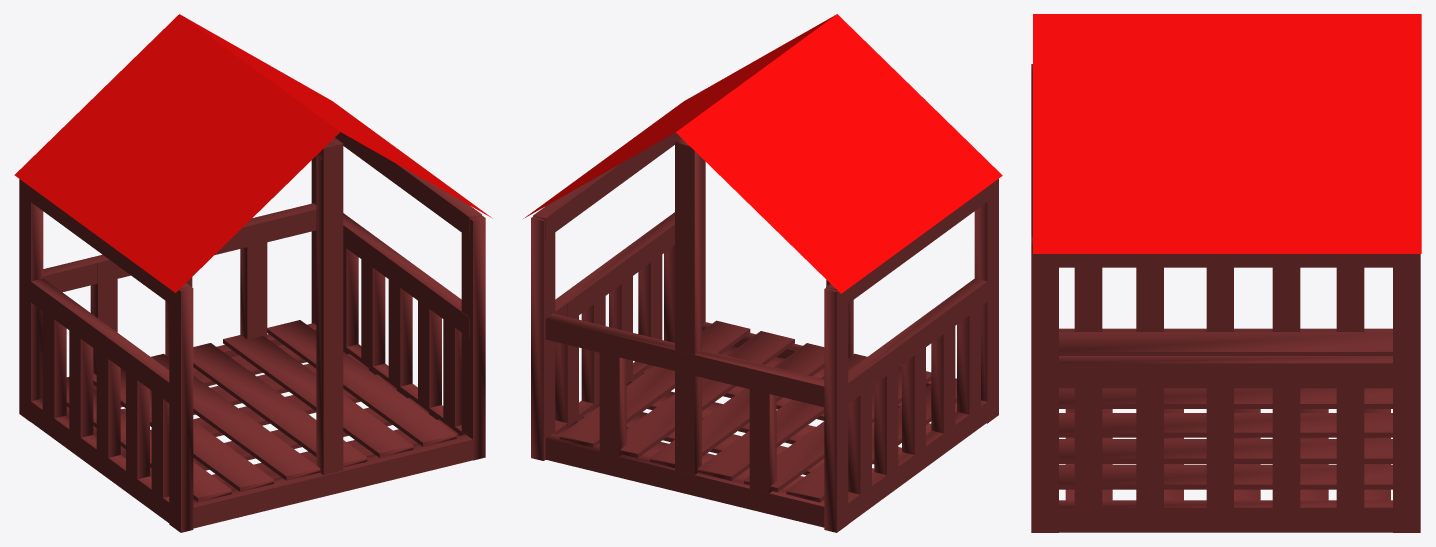
File: 6_house.fbx
3 renders of one model, left to right at view 1: azimuth 30°, elevation 25°; view 2: azimuth 150°, elevation 25°; view 3: azimuth 270°, elevation 25°, orthographic. The views are drawn at different scales.
Visible parts, largest first — view 1: Null_Object Plane1, Null_Object Cube, Null_Object Cube12, Null_Object Cube28, Null_Object Cube23, Null_Object Cube2, Null_Object Cube6, Null_Object Cube32, Null_Object Cube14, Null_Object Cube4, Null_Object Cube19, Null_Object Plane2 (+26 smaller); view 2: Null_Object Plane1, Null_Object Cube8, Null_Object Cube11, Null_Object Cube12_2, Null_Object Cube14, Null_Object Cube21, Null_Object Cube4, Null_Object Plane2, Null_Object Cube28, Null_Object Cube6, Null_Object Cube2, Null_Object Cube16 (+23 smaller); view 3: Null_Object Plane2, Null_Object Cube43, Null_Object Cube5, Null_Object Cube17, Null_Object Cube23, Null_Object Cube21, Null_Object Cube2, Null_Object Cube6, Null_Object Cube32, Null_Object Cube3, Null_Object Cube19, Null_Object Cube42 (+13 smaller).
Part boxes in pixels (left/top/right/bottom): Null_Object Plane1: left=14, top=14, right=339, bottom=292; Null_Object Cube: left=316, top=138, right=343, bottom=475; Null_Object Cube12: left=193, top=434, right=472, bottom=528; Null_Object Cube28: left=169, top=286, right=193, bottom=532; Null_Object Cube23: left=461, top=215, right=485, bottom=460; Null_Object Cube2: left=267, top=320, right=456, bottom=446; Null_Object Cube6: left=223, top=335, right=413, bottom=457; Null_Object Cube32: left=193, top=343, right=367, bottom=467; Null_Object Cube14: left=19, top=179, right=43, bottom=421; Null_Object Cube4: left=31, top=278, right=177, bottom=408; Null_Object Cube19: left=151, top=353, right=320, bottom=480; Null_Object Plane2: left=180, top=14, right=492, bottom=218; Null_Object Plane1: left=676, top=14, right=1002, bottom=293; Null_Object Cube8: left=675, top=138, right=701, bottom=474; Null_Object Cube11: left=546, top=313, right=824, bottom=407; Null_Object Cube12_2: left=546, top=433, right=824, bottom=527; Null_Object Cube14: left=824, top=288, right=848, bottom=532; Null_Object Cube21: left=531, top=217, right=555, bottom=460; Null_Object Cube4: left=838, top=275, right=995, bottom=406; Null_Object Plane2: left=523, top=14, right=836, bottom=218; Null_Object Cube28: left=974, top=179, right=998, bottom=423; Null_Object Cube6: left=620, top=331, right=794, bottom=458; Null_Object Cube2: left=559, top=320, right=750, bottom=447; Null_Object Cube16: left=838, top=396, right=995, bottom=524; Null_Object Plane2: left=1033, top=14, right=1421, bottom=253; Null_Object Cube43: left=1059, top=356, right=1392, bottom=388; Null_Object Cube5: left=1059, top=500, right=1392, bottom=532; Null_Object Cube17: left=1059, top=332, right=1392, bottom=355; Null_Object Cube23: left=1031, top=237, right=1058, bottom=532; Null_Object Cube21: left=1393, top=254, right=1420, bottom=532; Null_Object Cube2: left=1059, top=464, right=1392, bottom=489; Null_Object Cube6: left=1059, top=439, right=1392, bottom=463; Null_Object Cube32: left=1059, top=413, right=1392, bottom=437; Null_Object Cube3: left=1059, top=254, right=1392, bottom=267; Null_Object Cube19: left=1059, top=388, right=1392, bottom=408; Null_Object Cube42: left=1074, top=388, right=1102, bottom=507.
Bounding box in the file's own units: 126 × 111 × 136.
